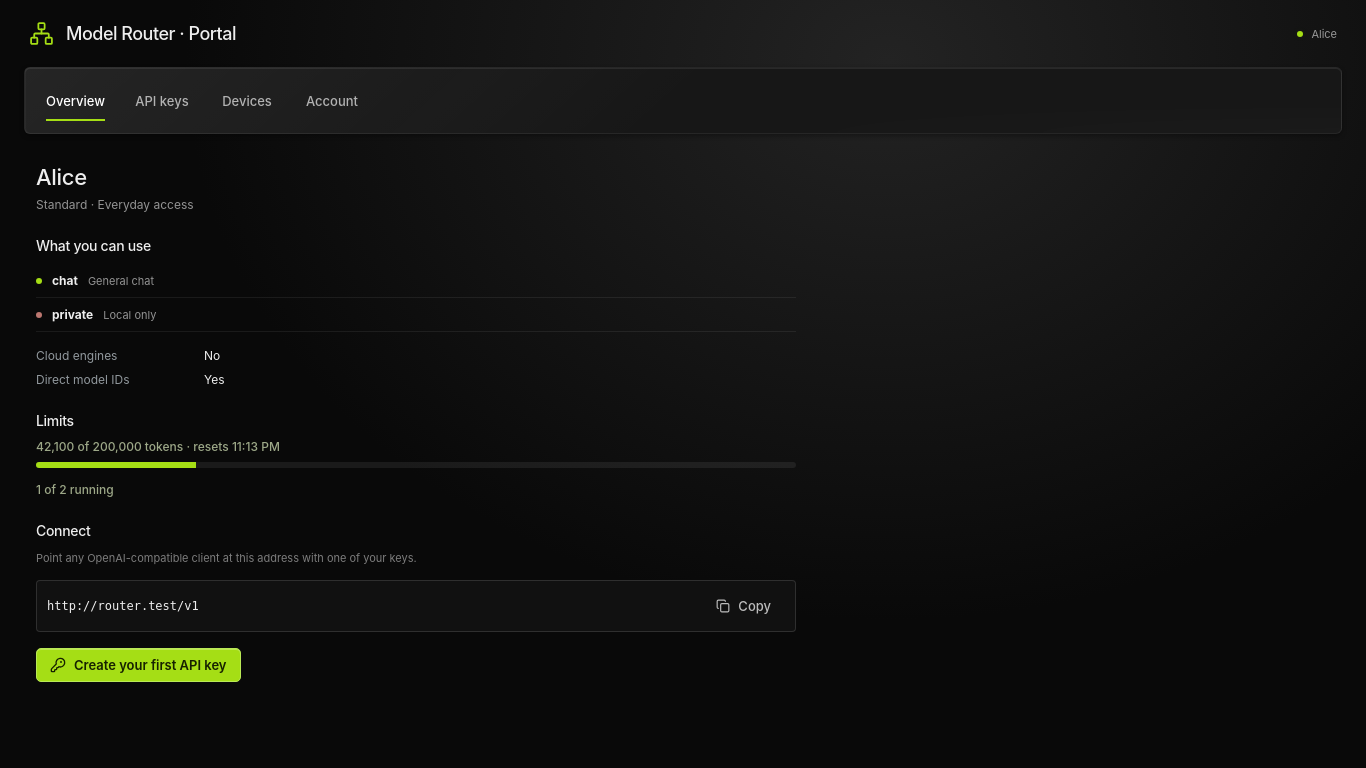
a failed sign-out is reported and keeps the dashboard; a successful one shows the sign-in form
The width and height of the screenshot is (1366, 768).
Step 1. Click the button "Account" → (332, 100), box [302, 68, 362, 133]
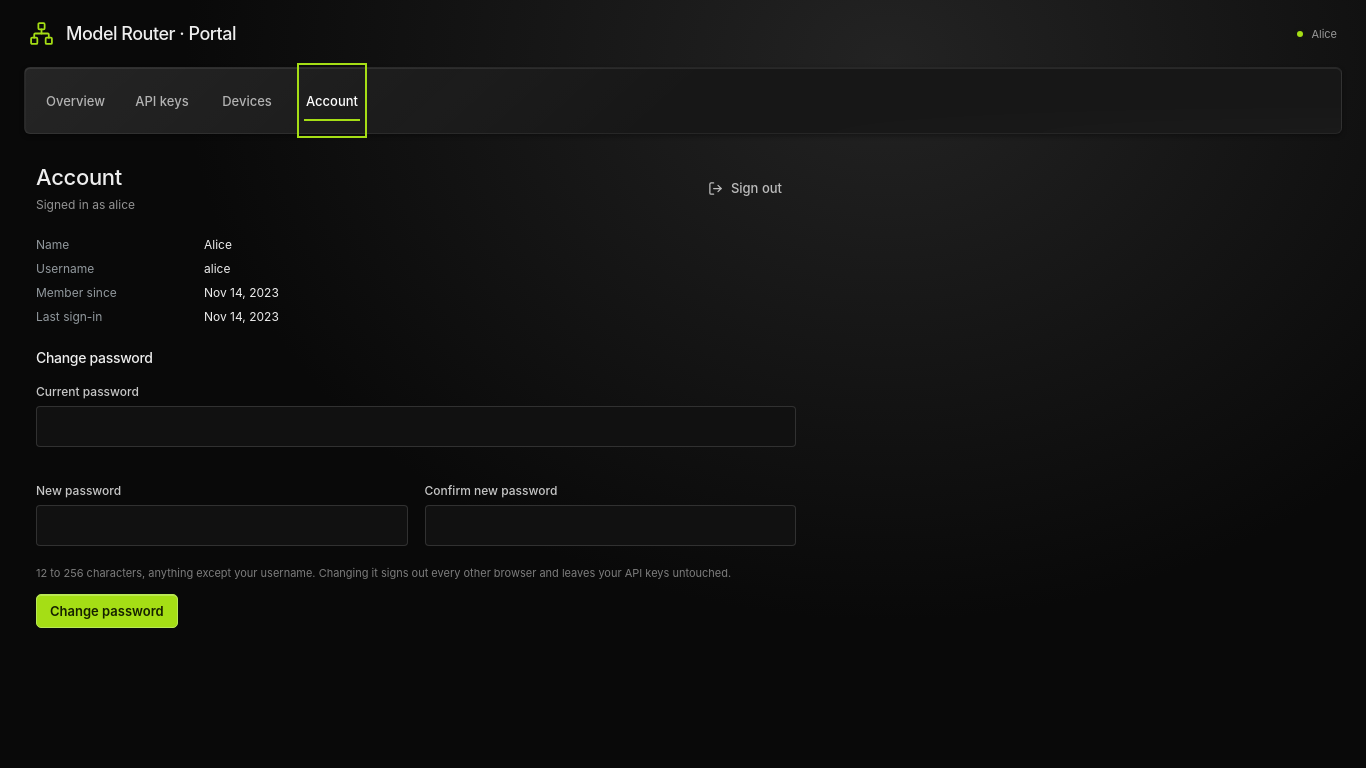
Step 2. Click the button "Sign out" → (745, 188), box [694, 171, 796, 205]
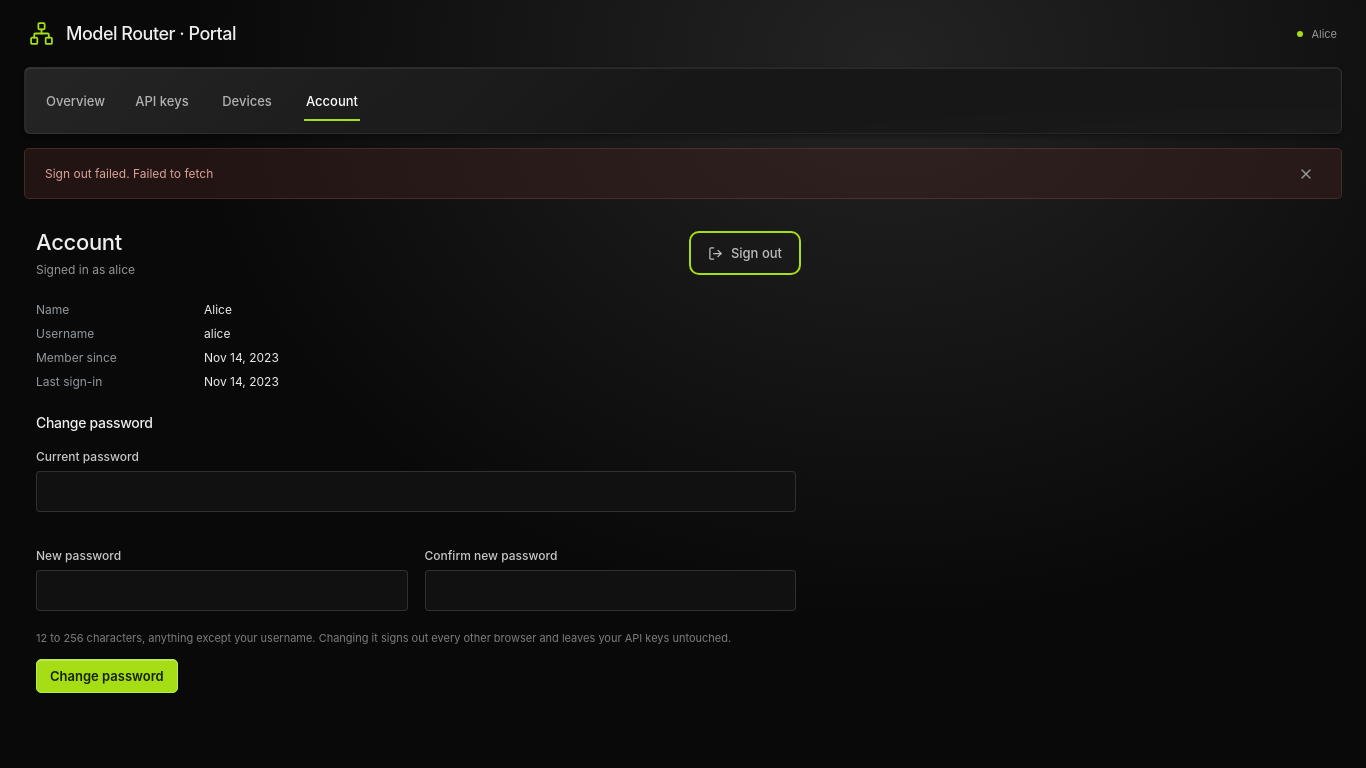
Check: the heading "Account" is shown, box [36, 229, 135, 255]
Check: the message reads "Sign out failed. Failed to fetch", box [45, 166, 213, 181]
Step 3. Click the button "Sign out" → (745, 253), box [694, 236, 796, 270]
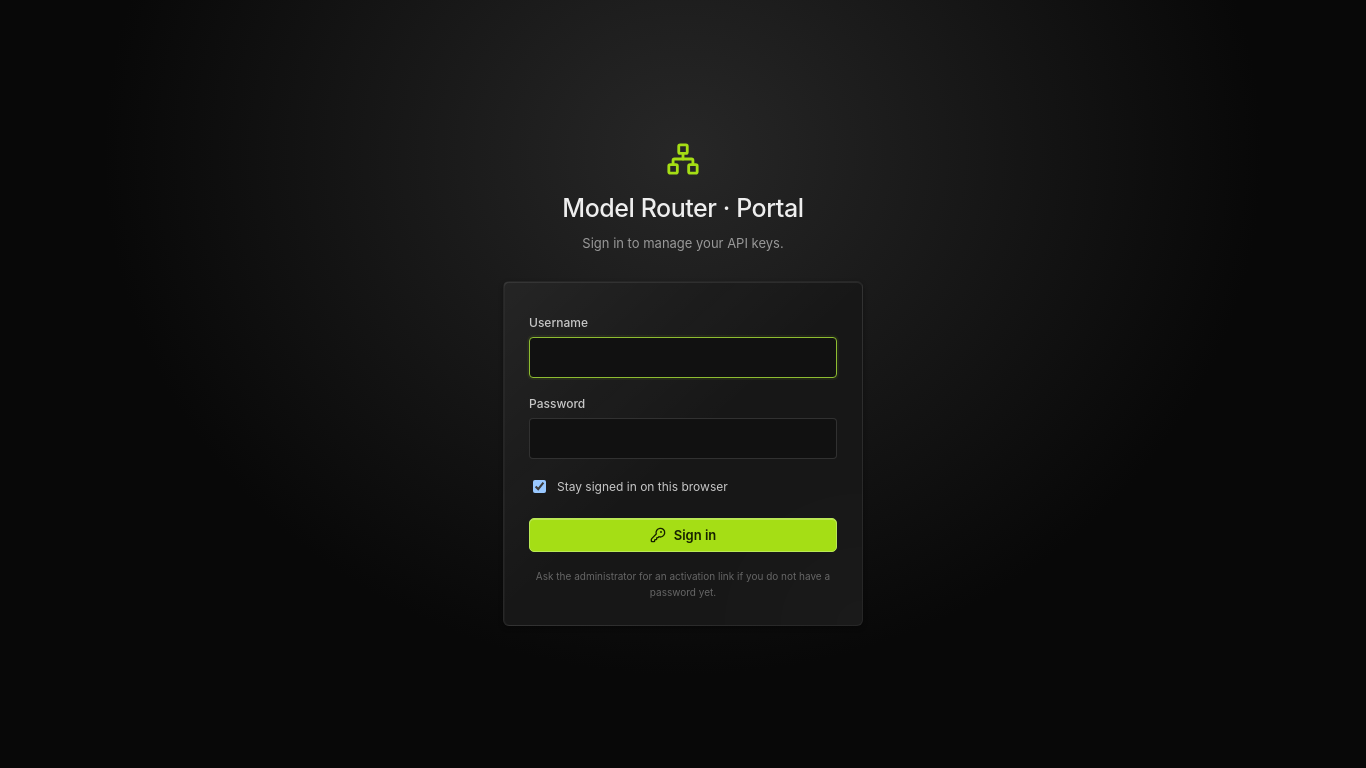
Check: the button "Sign in" is shown, box [529, 518, 837, 552]
Check: the button "Account" is gone
